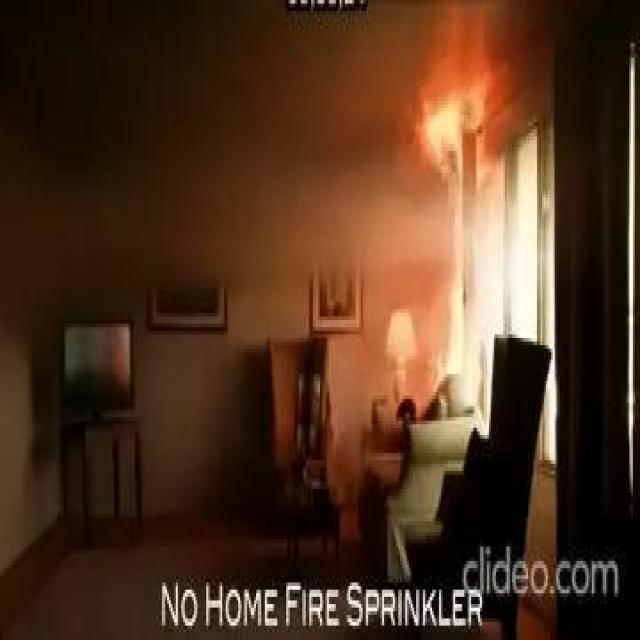smoke: (421, 72, 464, 205), (435, 264, 465, 386)
